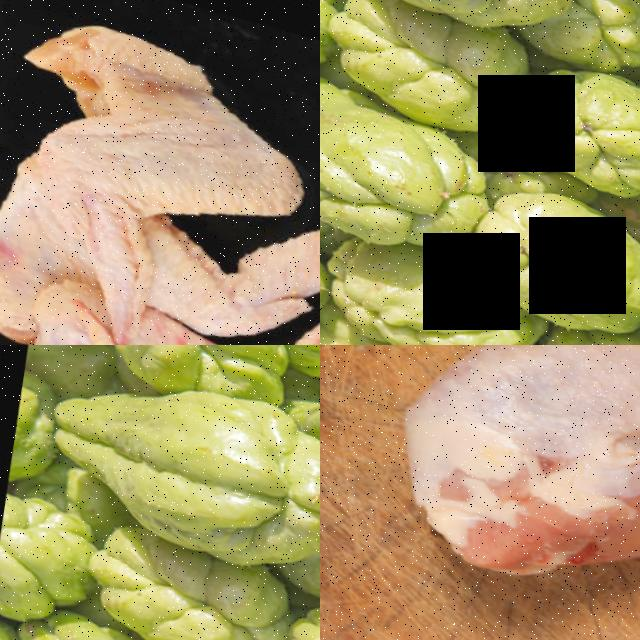chayote: (49, 359, 320, 550), (320, 79, 492, 261), (474, 162, 640, 341), (343, 0, 520, 121), (103, 521, 280, 640), (528, 52, 640, 191), (109, 345, 280, 395)
chicken thigh: (372, 345, 640, 640)
chicken wing: (11, 0, 317, 345)
